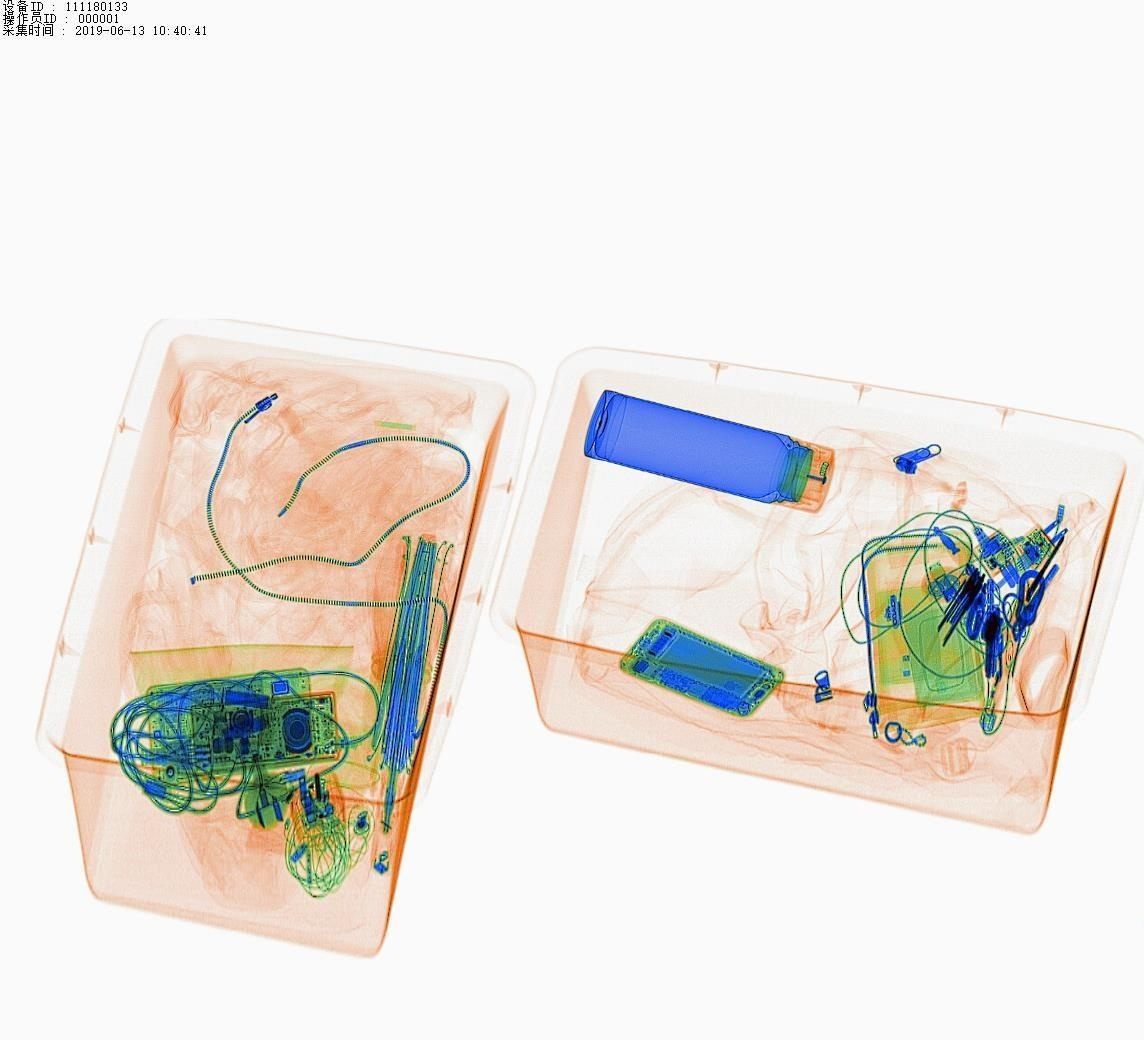NonmetallicFire: (981, 649, 1017, 760)
